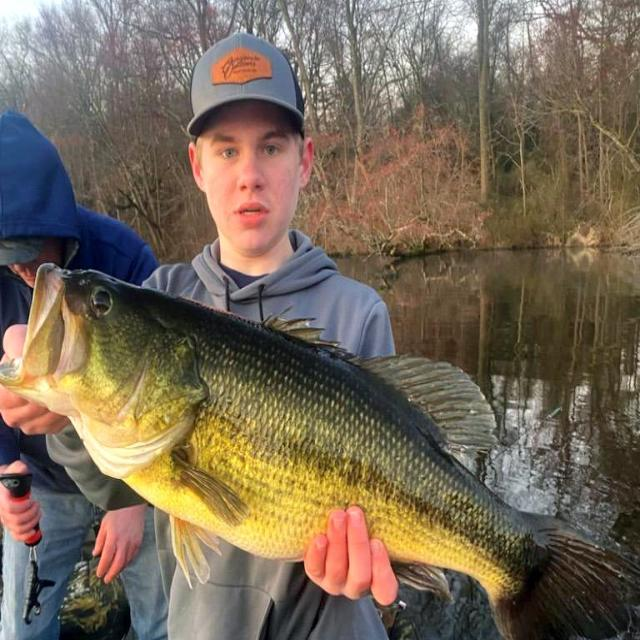Bass - Largemouth: (12, 266, 639, 636)
